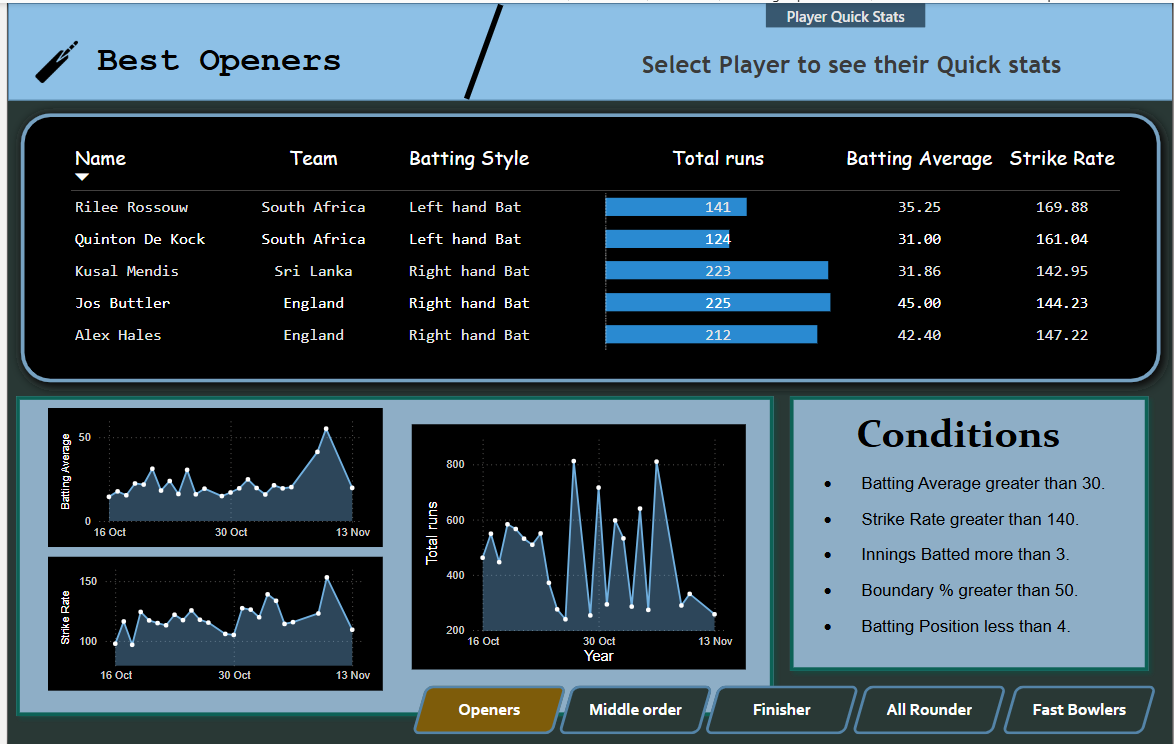

The page's visual inventory and layout, read from the dashboard file:
{"tool":"powerbi","page":{"name":"Openers","canvas":[1280,820],"ordinal":0},"visuals":[{"type":"shape","box":[0,423.2,850.5,369.6],"z":0},{"type":"shape","box":[0,107.2,1280.6,324.3],"z":1000},{"type":"lineChart","fields":{"Y":["Measures (3).Batting Average"],"Category":["Match_summary.matchDate.Variation.Date Hierarchy.Year","Match_summary.matchDate.Variation.Date Hierarchy.Quarter","Match_summary.matchDate.Variation.Date Hierarchy.Month","Match_summary.matchDate.Variation.Date Hierarchy.Day"]},"box":[44,445.2,368.2,152.5],"z":2000},{"type":"tableEx","fields":{"Values":["Players.name","Players.team","Players.battingStyle","Measures (3).Total runs","Measures (3).Batting Average","Measures (3).Strike Rate"]},"box":[53.6,142.9,1184.4,252.8],"z":3000},{"type":"lineChart","fields":{"Y":["Measures (3).Strike Rate"],"Category":["Match_summary.matchDate.Variation.Date Hierarchy.Year","Match_summary.matchDate.Variation.Date Hierarchy.Quarter","Match_summary.matchDate.Variation.Date Hierarchy.Month","Match_summary.matchDate.Variation.Date Hierarchy.Day"]},"box":[44,608.7,368.2,147],"z":4000},{"type":"lineChart","fields":{"Y":["Measures (3).Total runs"],"Category":["Match_summary.matchDate.Variation.Date Hierarchy.Year","Match_summary.matchDate.Variation.Date Hierarchy.Quarter","Match_summary.matchDate.Variation.Date Hierarchy.Month","Match_summary.matchDate.Variation.Date Hierarchy.Day"]},"box":[443.8,463,366.9,269.3],"z":5000},{"type":"shape","box":[0,0,1280.6,107.2],"z":6000},{"type":"shape","box":[461.7,0,122.3,107.2],"z":7000},{"type":"textbox","box":[93.4,37.1,332.5,55],"z":8000},{"type":"card","fields":{"Values":["Measures (3).Batting Average"]},"box":[698,26.1,153.9,81.1],"z":9000},{"type":"card","fields":{"Values":["Measures (3).Strike Rate"]},"box":[832.6,26.1,119.5,81.1],"z":10000},{"type":"card","fields":{"Values":["Measures (3).Avg Ball Faced"]},"box":[952.2,27.5,140.1,81.1],"z":11000},{"type":"card","fields":{"Values":["Measures (3).Total runs"]},"box":[1082.7,26.1,119.5,81.1],"z":12000},{"type":"shape","box":[652.7,41.2,549.6,53.6],"z":13000},{"type":"shape","box":[832.6,0,175.9,27.5],"z":14000},{"type":"card","fields":{"Values":["Min(Players.name)"]},"box":[523.5,26.1,181.4,81.1],"z":15000},{"type":"shape","box":[604.6,750.2,170.4,53.6],"z":16000},{"type":"shape","box":[1092.3,750.2,170.4,53.6],"z":17000},{"type":"shape","box":[927.5,750.2,170.4,53.6],"z":18000},{"type":"shape","box":[765.3,750.2,170.4,53.6],"z":19000},{"type":"shape","box":[443.8,750.2,170.4,53.6],"z":20000},{"type":"shape","box":[850.5,423.2,412.2,320.1],"z":21000},{"type":"textbox","box":[891.7,511.1,329.8,193.7],"z":22000},{"type":"textbox","box":[927.5,442.4,243.2,68.7],"z":23000},{"type":"image","box":[24.7,34.4,57.7,60.5],"z":23001}]}

Visuals, with their boxes in screenshot pixels (x1, y1, x2, y2), scaled from the page's 1280x820 canvas onto the 1174x744 screenshot:
shape: region(0, 384, 780, 719)
shape: region(0, 97, 1173, 392)
lineChart - Measures (3).Batting Average x Match_summary.matchDate.Variation.Date Hierarchy.Year: region(40, 404, 378, 542)
tableEx - Players.name x Players.team: region(49, 130, 1135, 359)
lineChart - Measures (3).Strike Rate x Match_summary.matchDate.Variation.Date Hierarchy.Year: region(40, 552, 378, 686)
lineChart - Measures (3).Total runs x Match_summary.matchDate.Variation.Date Hierarchy.Year: region(407, 420, 744, 664)
shape: region(0, 0, 1173, 97)
shape: region(423, 0, 536, 97)
textbox: region(86, 34, 391, 84)
card - Measures (3).Batting Average: region(640, 24, 781, 97)
card - Measures (3).Strike Rate: region(764, 24, 873, 97)
card - Measures (3).Avg Ball Faced: region(873, 25, 1002, 99)
card - Measures (3).Total runs: region(993, 24, 1103, 97)
shape: region(599, 37, 1103, 86)
shape: region(764, 0, 925, 25)
card - Min(Players.name): region(480, 24, 647, 97)
shape: region(555, 681, 711, 729)
shape: region(1002, 681, 1158, 729)
shape: region(851, 681, 1007, 729)
shape: region(702, 681, 858, 729)
shape: region(407, 681, 563, 729)
shape: region(780, 384, 1158, 674)
textbox: region(818, 464, 1120, 639)
textbox: region(851, 401, 1074, 464)
image: region(23, 31, 76, 86)
